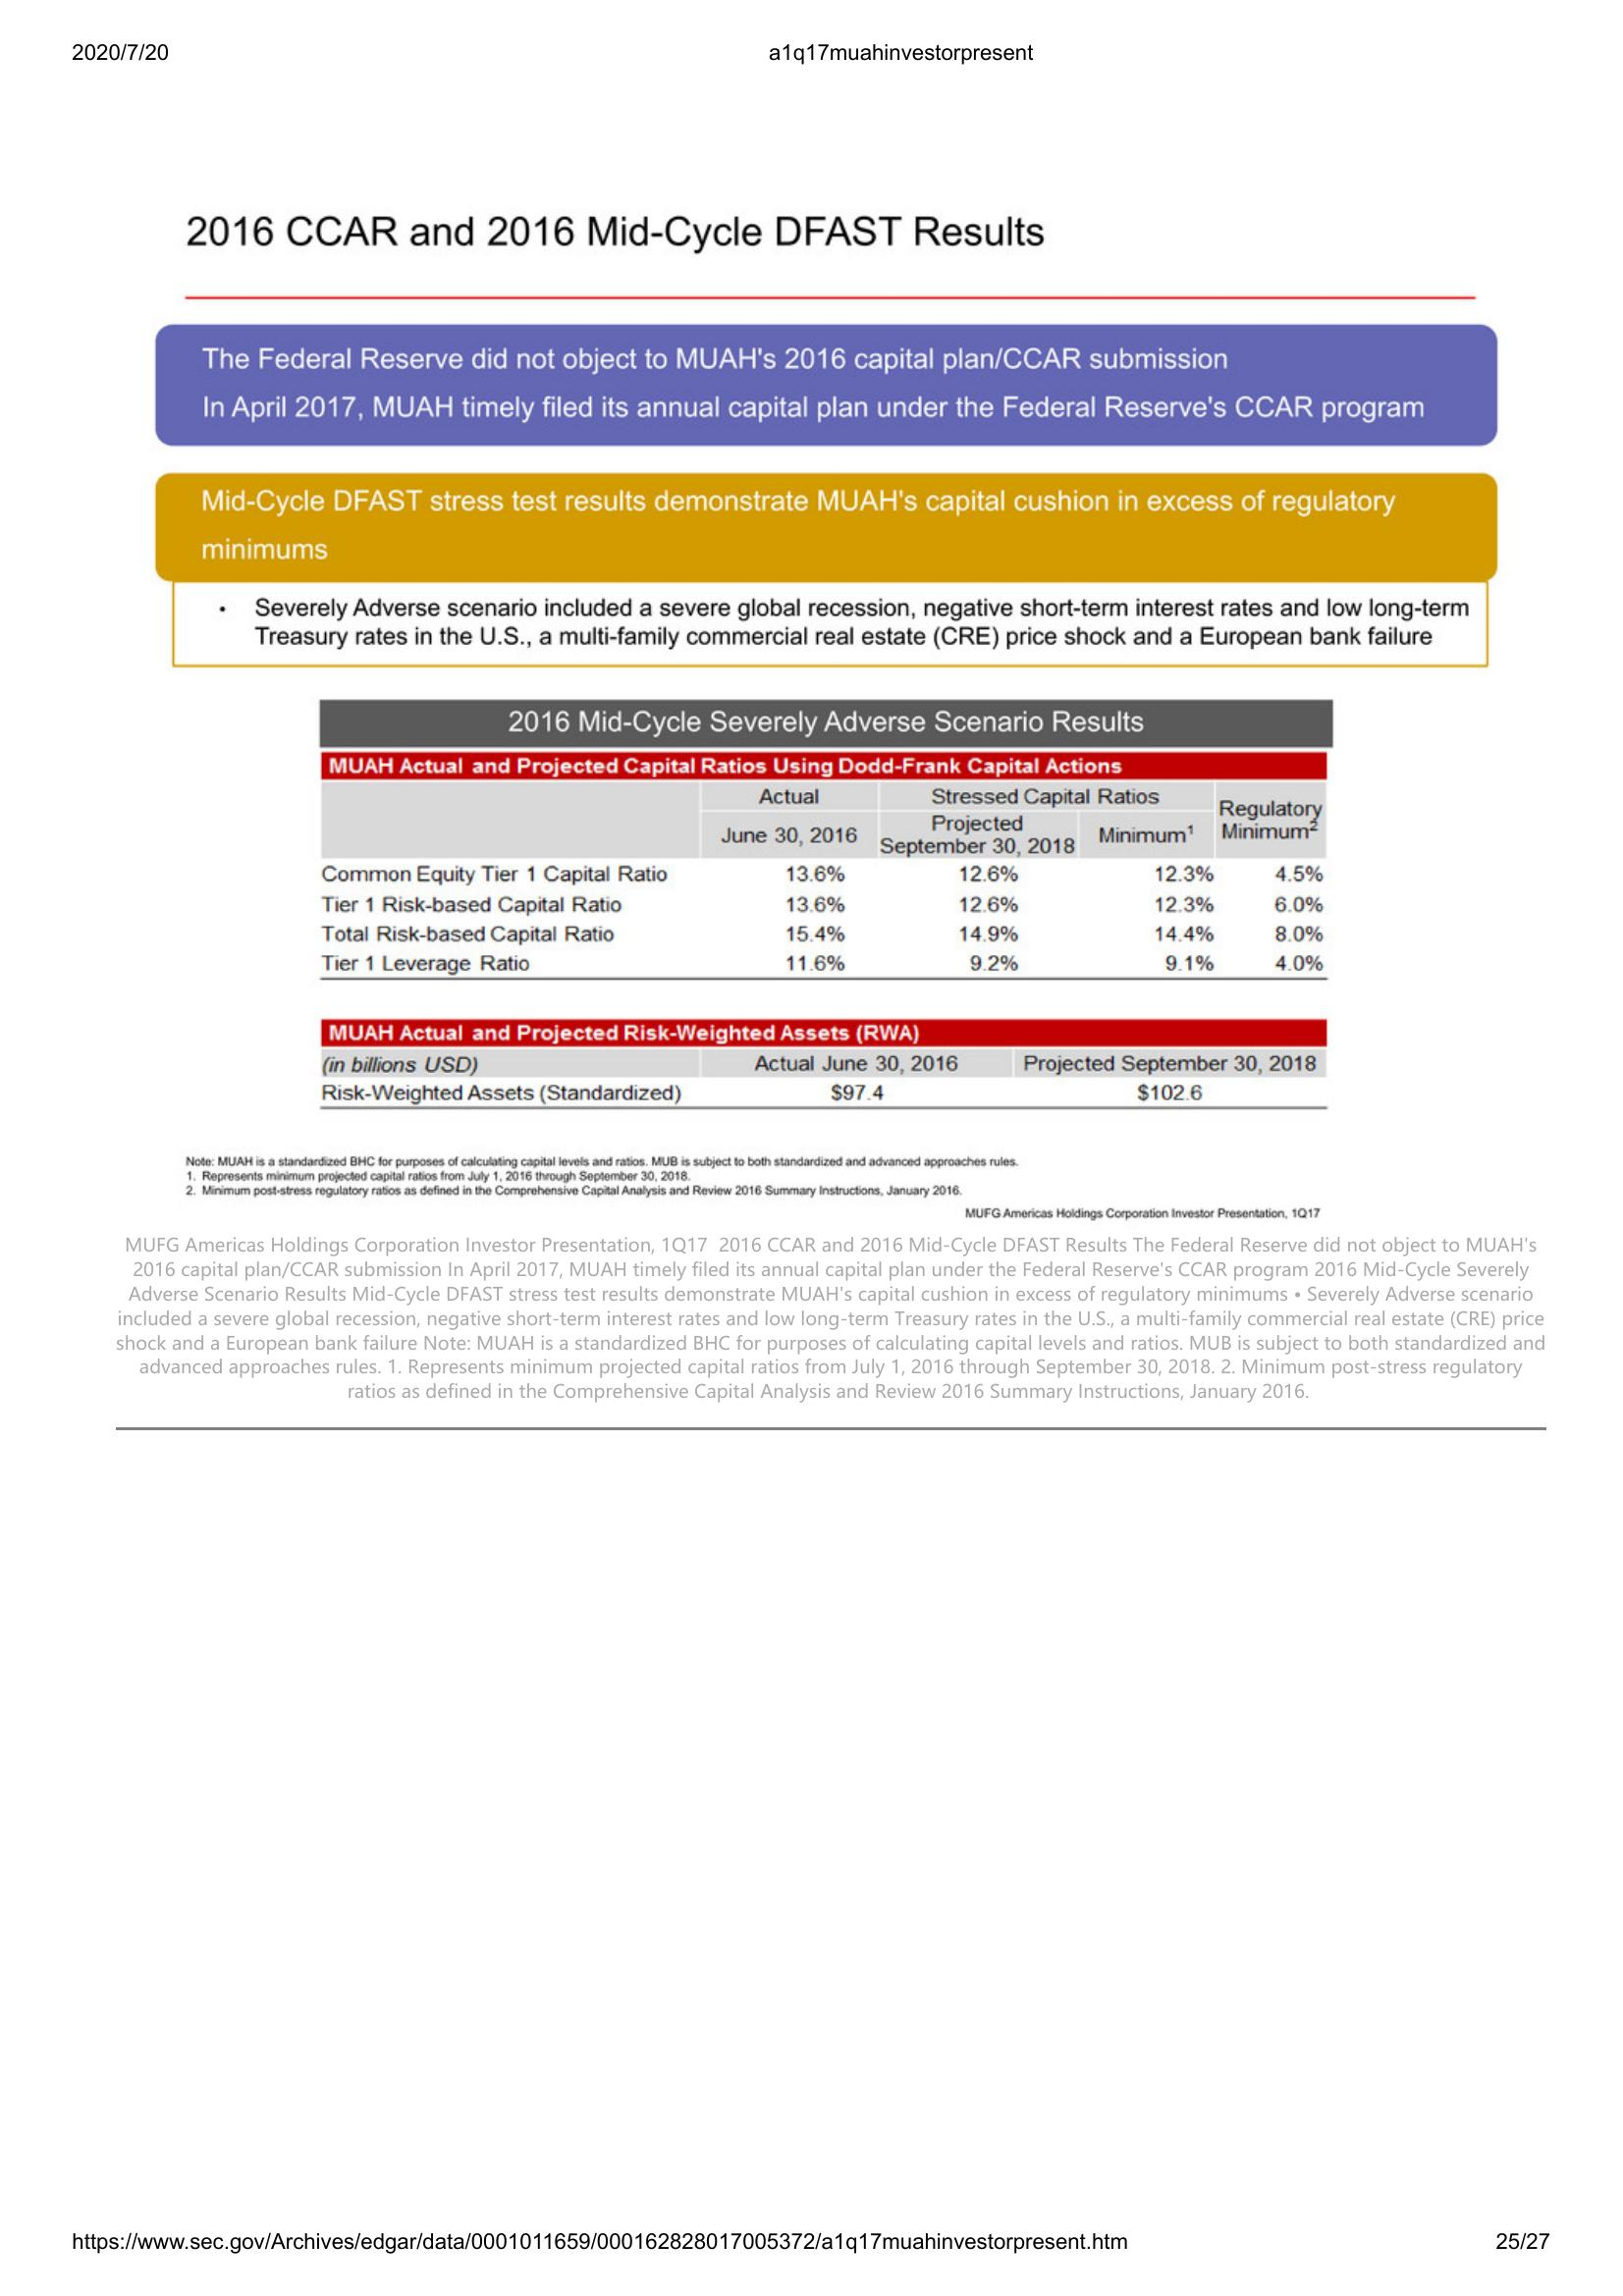table: (316, 693, 1335, 1115)
